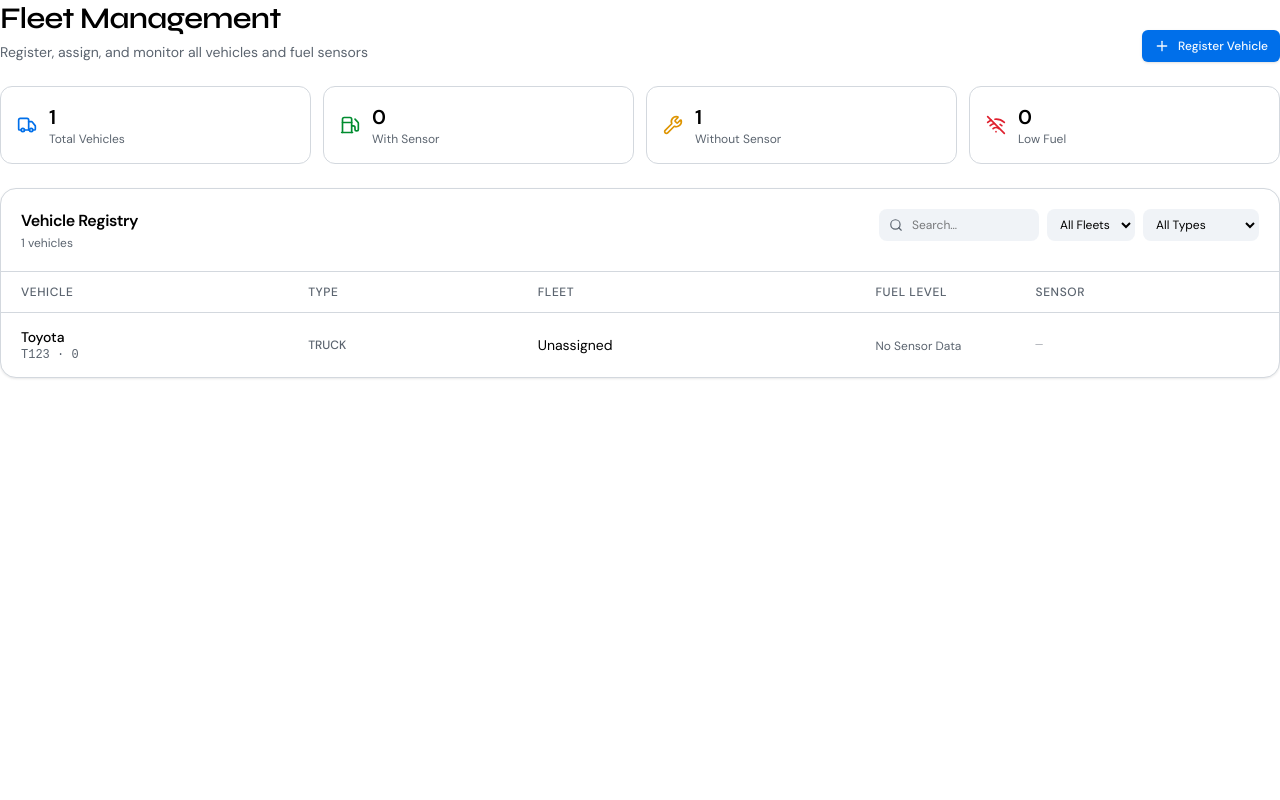
Test case: Fleet Component › should support assigning a sensor and updating UI to Replace Sensor
This screenshot has width=1280, height=800.
Check: the text "T123 · 0" is shown, box [21,348,79,362]
Open row
Click the text "Toyota" at (43,337), box [21,328,64,346]
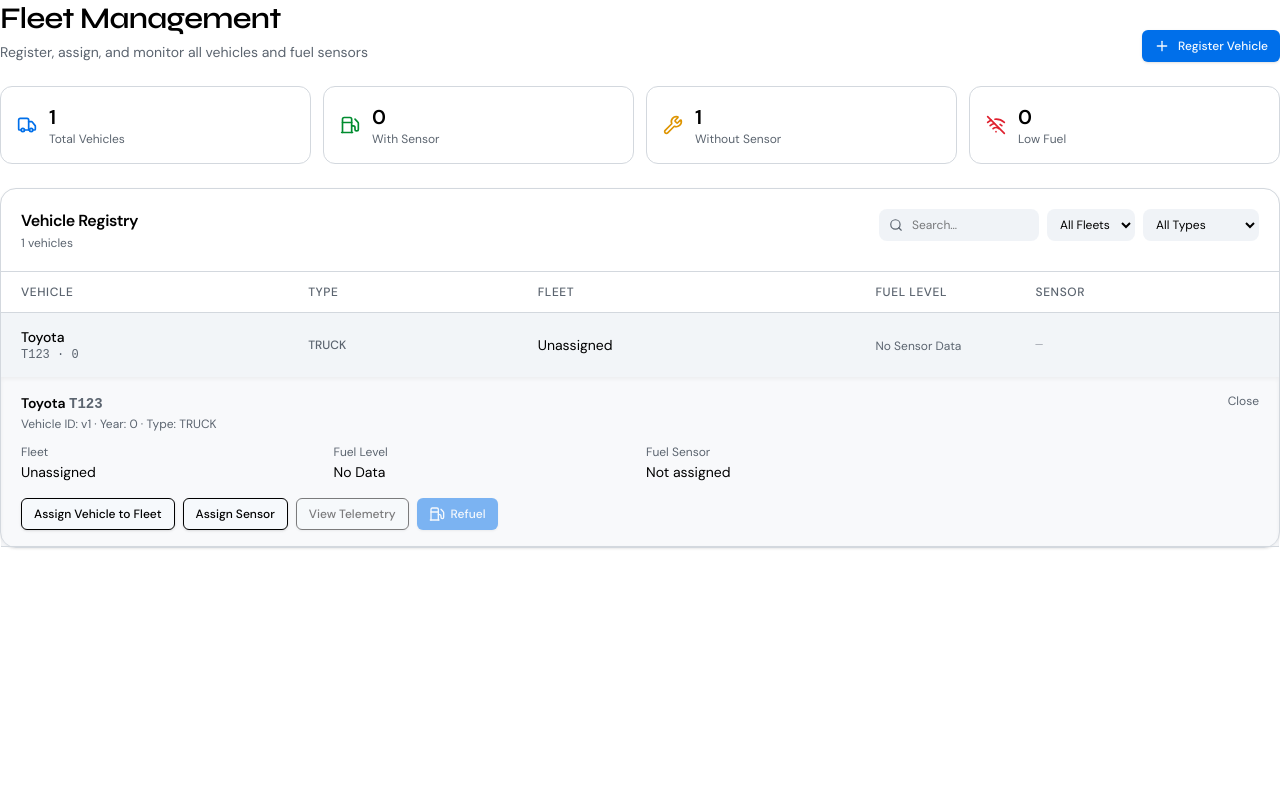
Click Assign Sensor
Click the button "Assign Sensor" at (235,514), box [182,498,288,530]
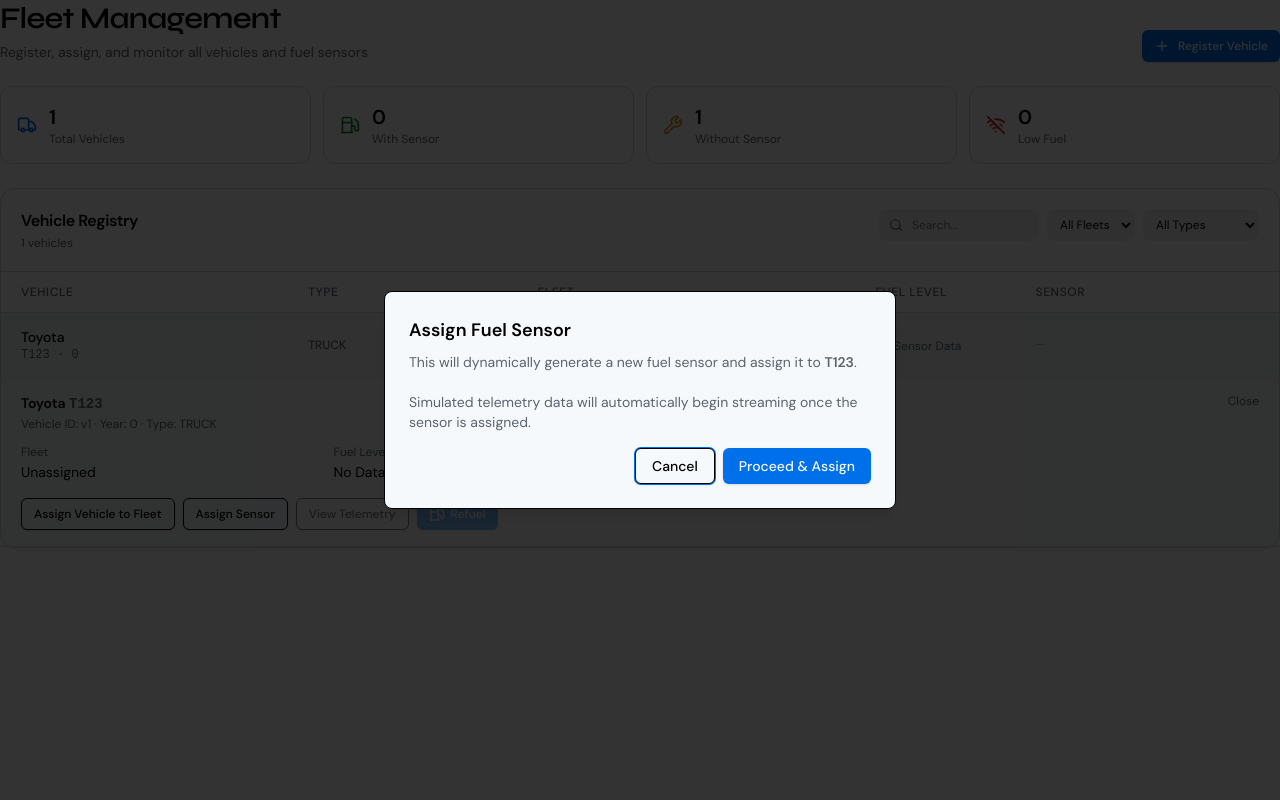
Click Proceed
Click the button "Proceed & Assign" at (797,466), box [723,448,871,484]
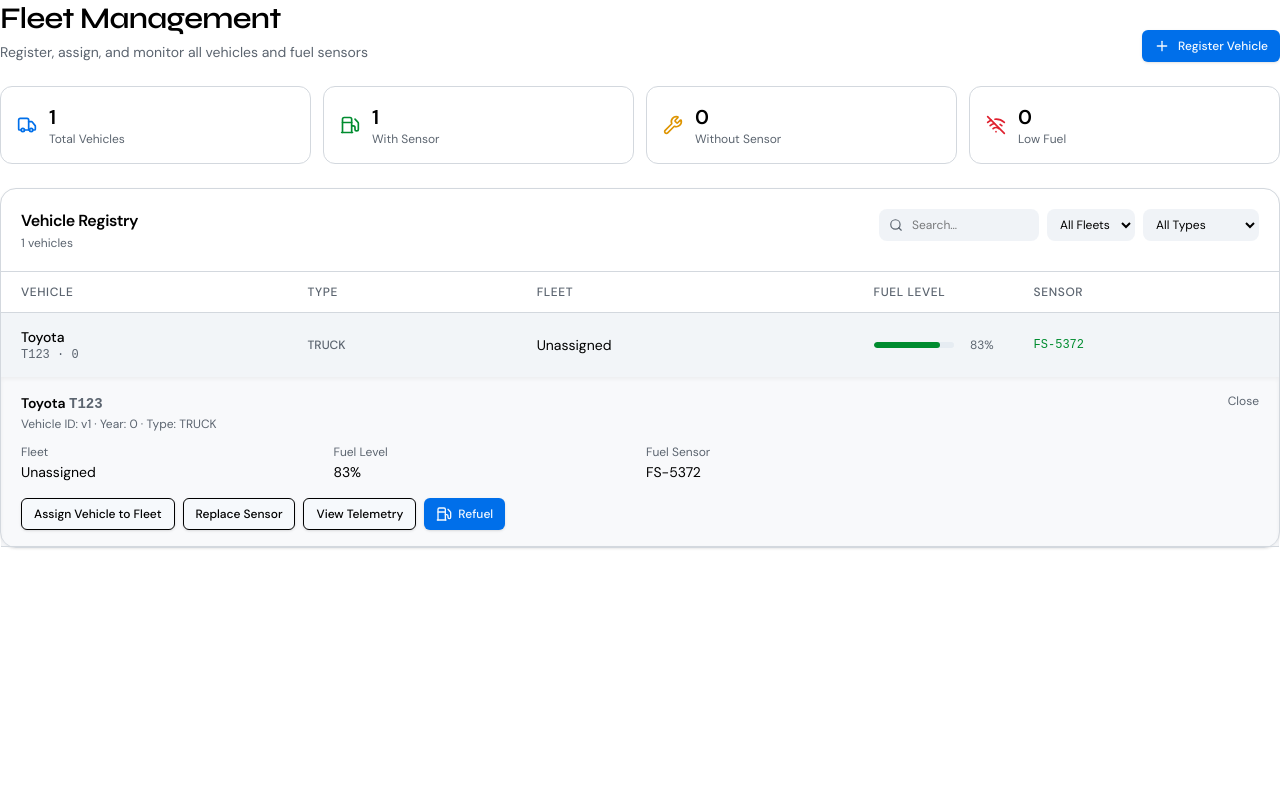
Check: the button "Replace Sensor" is shown, box [182,498,296,530]
